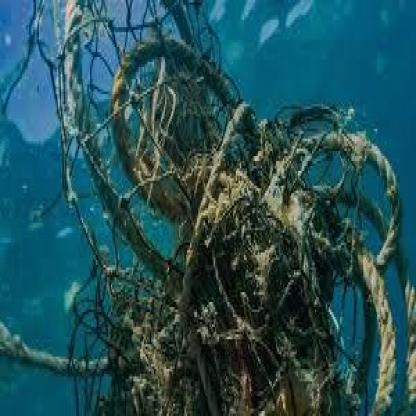net: (42, 2, 412, 414)
